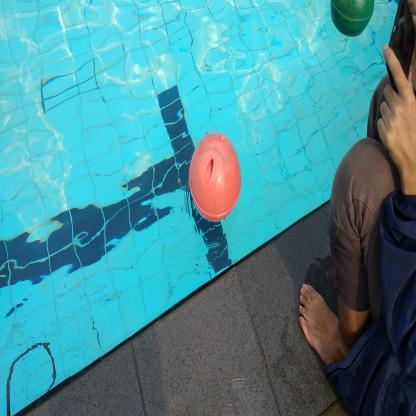green_buoy: (326, 0, 375, 40)
red_buoy: (187, 126, 245, 226)
